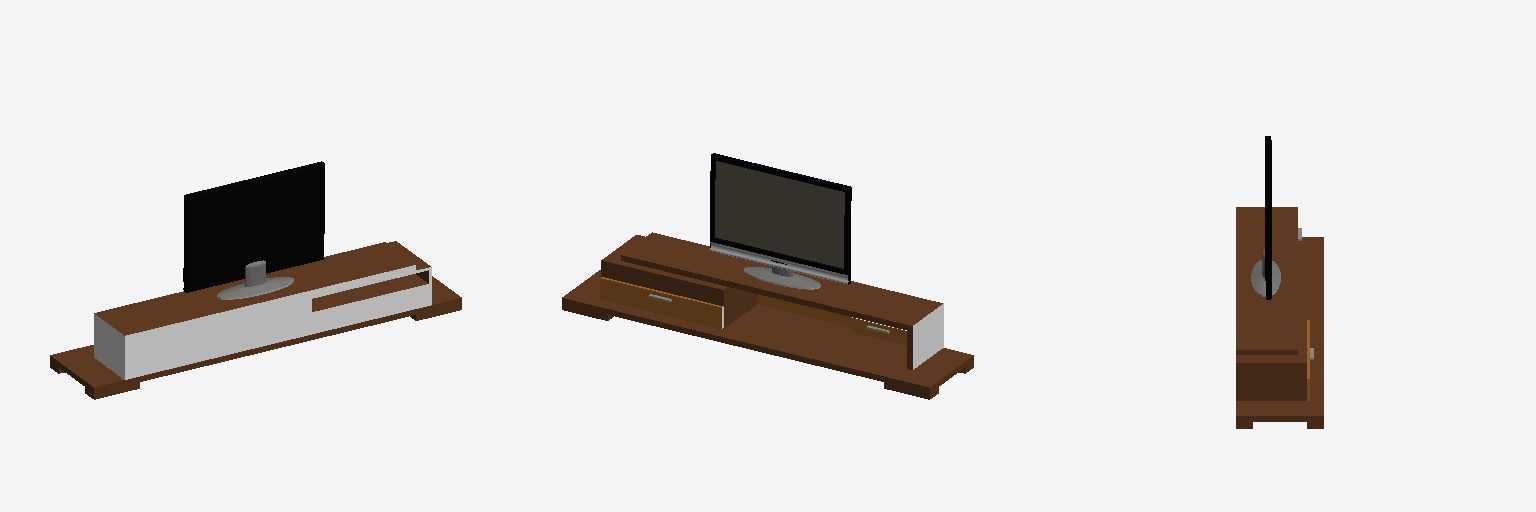
3 views of the same model, side by side, from view 1: azimuth 30°, elevation 25°; view 2: azimuth 150°, elevation 25°; view 3: azimuth 270°, elevation 25° (orthographic).
Visible parts, largest first — view 1: Mesh16 Model, Mesh15 TV_Panasonic1 Model, Mesh1 Group1 Model, Mesh14 Component_2_1 TV_Panasonic1 Model; view 2: Mesh16 Model, Mesh15 TV_Panasonic1 Model, Mesh1 Group1 Model, Mesh14 Component_2_1 TV_Panasonic1 Model; view 3: Mesh16 Model, Mesh1 Group1 Model, Mesh15 TV_Panasonic1 Model, Mesh14 Component_2_1 TV_Panasonic1 Model.
Part boxes in pixels (bbox=[...]): Mesh16 Model: bbox=[94, 241, 431, 379]; Mesh15 TV_Panasonic1 Model: bbox=[183, 161, 324, 292]; Mesh1 Group1 Model: bbox=[50, 276, 461, 399]; Mesh14 Component_2_1 TV_Panasonic1 Model: bbox=[217, 260, 293, 299]; Mesh16 Model: bbox=[600, 232, 943, 369]; Mesh15 TV_Panasonic1 Model: bbox=[710, 153, 851, 284]; Mesh1 Group1 Model: bbox=[562, 270, 973, 399]; Mesh14 Component_2_1 TV_Panasonic1 Model: bbox=[744, 266, 820, 289]; Mesh16 Model: bbox=[1236, 207, 1309, 400]; Mesh1 Group1 Model: bbox=[1236, 237, 1323, 428]; Mesh15 TV_Panasonic1 Model: bbox=[1265, 136, 1271, 299]; Mesh14 Component_2_1 TV_Panasonic1 Model: bbox=[1251, 249, 1280, 296].
Bounding box in the file's own units: 2400 × 1031 × 500.